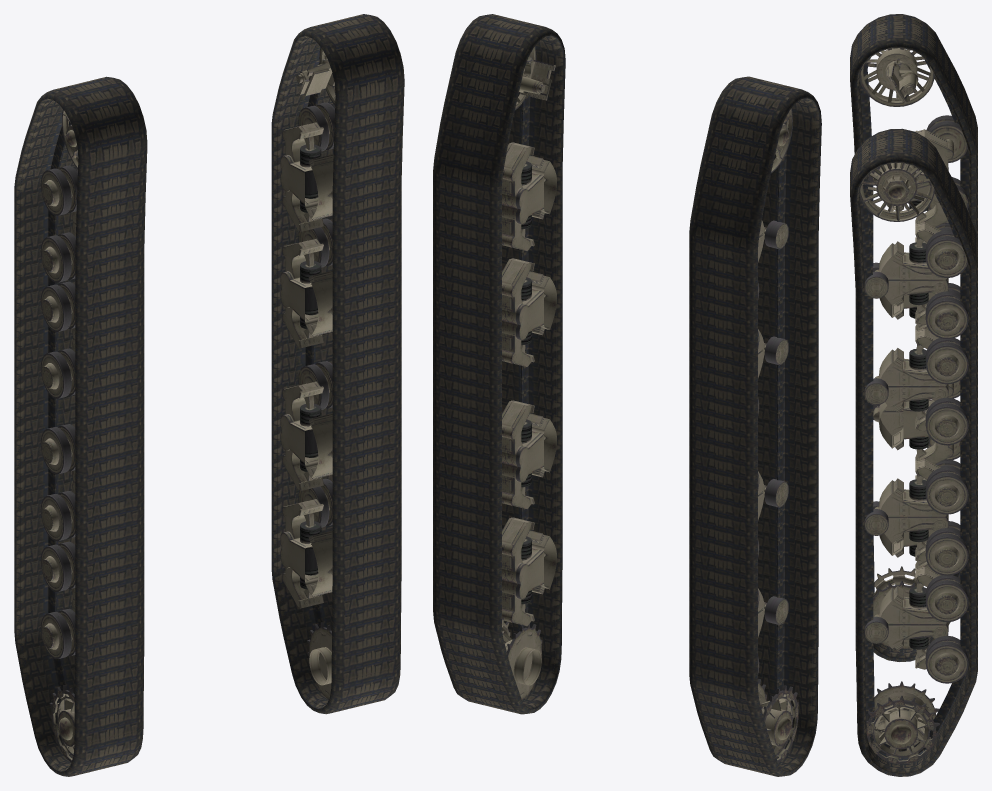
The model's file is Chassis.glb.
3 views of the same model, side by side, from view 1: azimuth 30°, elevation 25°; view 2: azimuth 150°, elevation 25°; view 3: azimuth 270°, elevation 25° (orthographic). The views are drawn at different scales.
Visible parts, largest first — view 1: set_1_group_0, set_0_group_0, set_3_group_0, set_2_group_0; view 2: set_1_group_0, set_0_group_0, set_3_group_0, set_2_group_0; view 3: set_3_group_0, set_0_group_0, set_2_group_0, set_1_group_0.
Part boxes in pixels (x1,y1,x2,y2): set_1_group_0: (14, 76, 147, 776); set_0_group_0: (271, 14, 404, 714); set_3_group_0: (280, 47, 335, 699); set_2_group_0: (40, 109, 78, 762); set_1_group_0: (689, 76, 821, 776); set_0_group_0: (433, 14, 565, 714); set_3_group_0: (502, 46, 556, 699); set_2_group_0: (758, 108, 798, 762); set_3_group_0: (859, 163, 968, 763); set_0_group_0: (850, 128, 977, 776); set_2_group_0: (859, 48, 968, 648); set_1_group_0: (850, 14, 977, 661).
Size of the model in its own units: 3.84 by 7.68 by 1.43.
Materials: 4 (4 with a texture image).
